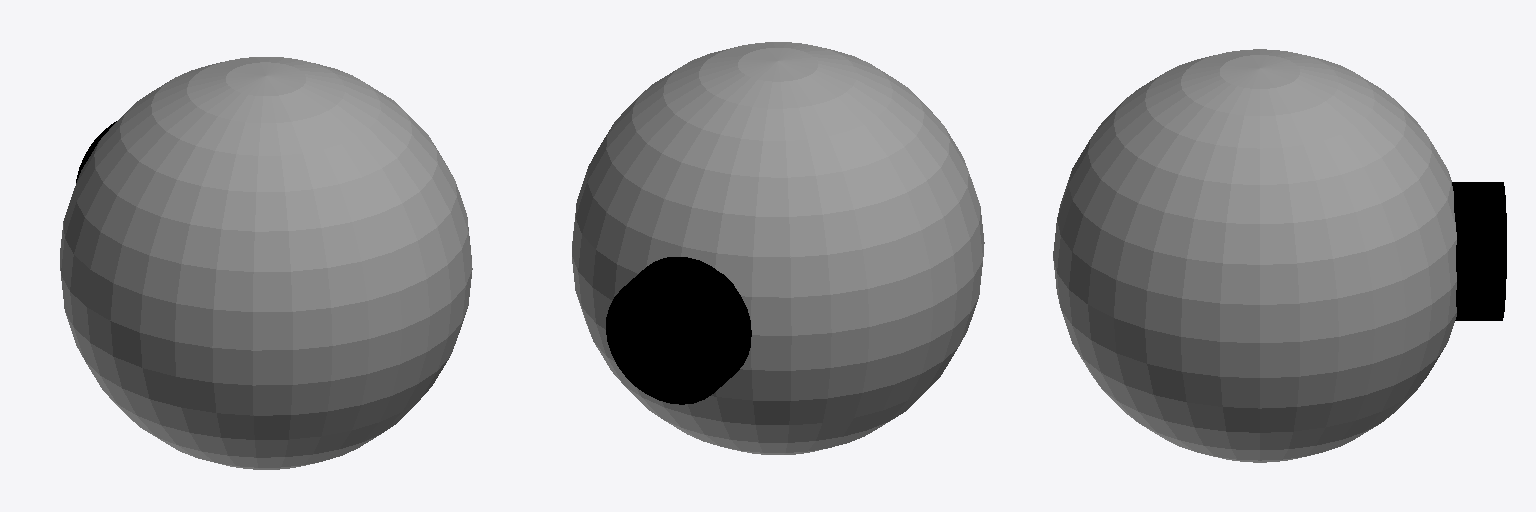
The model's file is better-eyeball.obj.
The picture shows the model from 3 angles: view 1: azimuth 30°, elevation 25°; view 2: azimuth 150°, elevation 25°; view 3: azimuth 270°, elevation 25°; orthographic projection.
Parts seen in each view (by area): view 1: Sphere; view 2: Sphere, Cylinder; view 3: Sphere, Cylinder.
Part boxes in pixels (bbox=[...]): Sphere: bbox=[60, 57, 472, 469]; Sphere: bbox=[572, 42, 984, 454]; Cylinder: bbox=[606, 257, 751, 404]; Sphere: bbox=[1053, 49, 1456, 462]; Cylinder: bbox=[1452, 182, 1506, 320].
Size of the model in its own units: 0.5 by 0.5 by 0.5485.